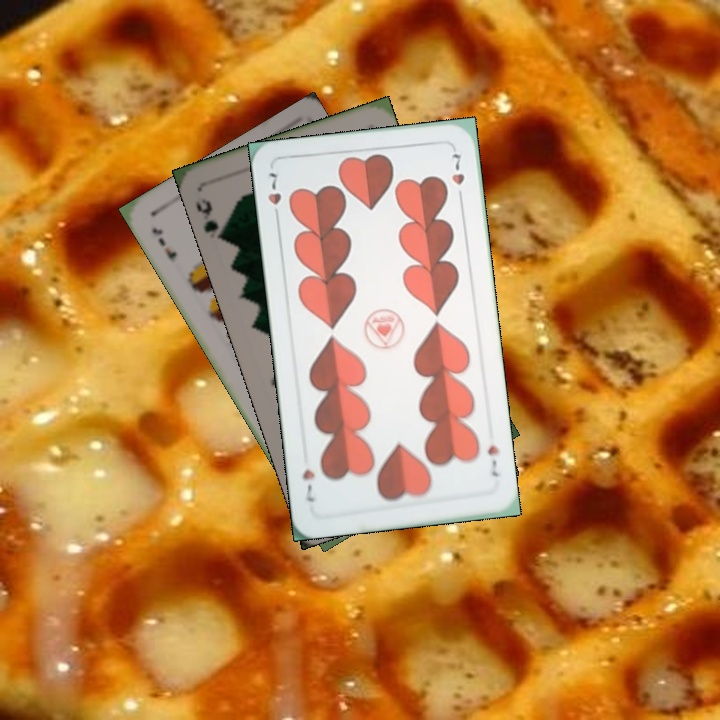E7: (147, 223, 180, 262)
G9: (191, 194, 229, 242)
H7: (263, 168, 284, 224), (484, 441, 501, 480)
